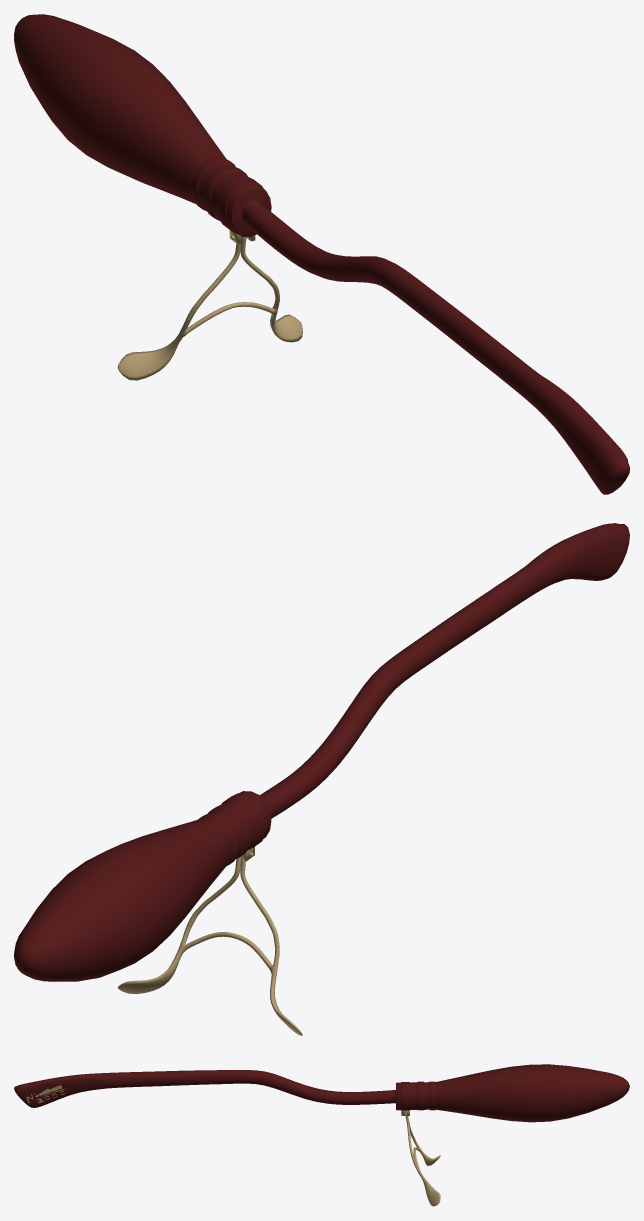
File: Nimbus2k.fbx
The picture shows the model from 3 angles, top to bottom: view 1: azimuth 30°, elevation 25°; view 2: azimuth 150°, elevation 25°; view 3: azimuth 270°, elevation 25°; orthographic projection. The views are drawn at different scales.
Visible parts, largest first — view 1: Cube, Vert; view 2: Cube, Vert; view 3: Cube, Vert, Cube.001.
Part boxes in pixels (x1=…): Cube: x1=14, y1=14, x2=629, y2=494; Vert: x1=117, y1=235, x2=302, y2=380; Cube: x1=14, y1=523, x2=629, y2=981; Vert: x1=117, y1=852, x2=302, y2=1035; Cube: x1=14, y1=1064, x2=629, y2=1122; Vert: x1=404, y1=1113, x2=440, y2=1206; Cube.001: x1=26, y1=1085, x2=64, y2=1103.
Bounding box in the file's own units: 94.81 × 114 × 539.
